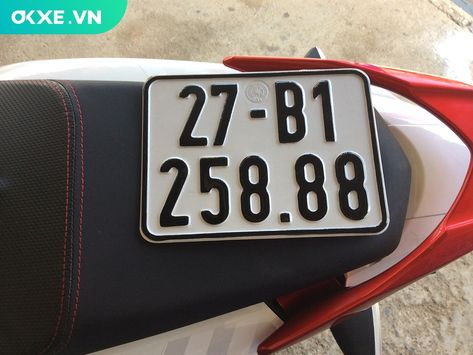number-plate: (148, 78, 383, 225)
